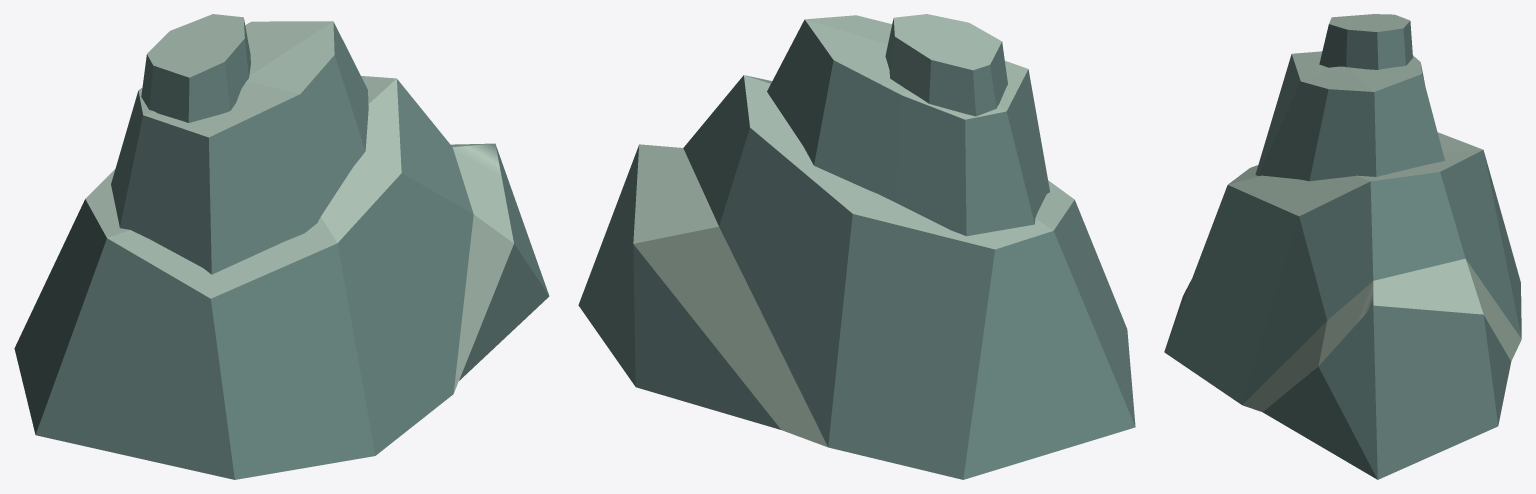
File: SM_L_Env_Mountain.fbx
3 renders of one model, left to right at view 1: azimuth 30°, elevation 25°; view 2: azimuth 150°, elevation 25°; view 3: azimuth 270°, elevation 25°, orthographic. The views are drawn at different scales.
Parts seen in each view (by area): view 1: SM_L_Env_Mountain; view 2: SM_L_Env_Mountain; view 3: SM_L_Env_Mountain.
Boxes of the visible parts, x1,y1,x2,y2 form: SM_L_Env_Mountain: [14, 14, 549, 479]; SM_L_Env_Mountain: [578, 14, 1135, 479]; SM_L_Env_Mountain: [1164, 14, 1521, 479].
Bounding box in the file's own units: 837 × 536 × 552.
